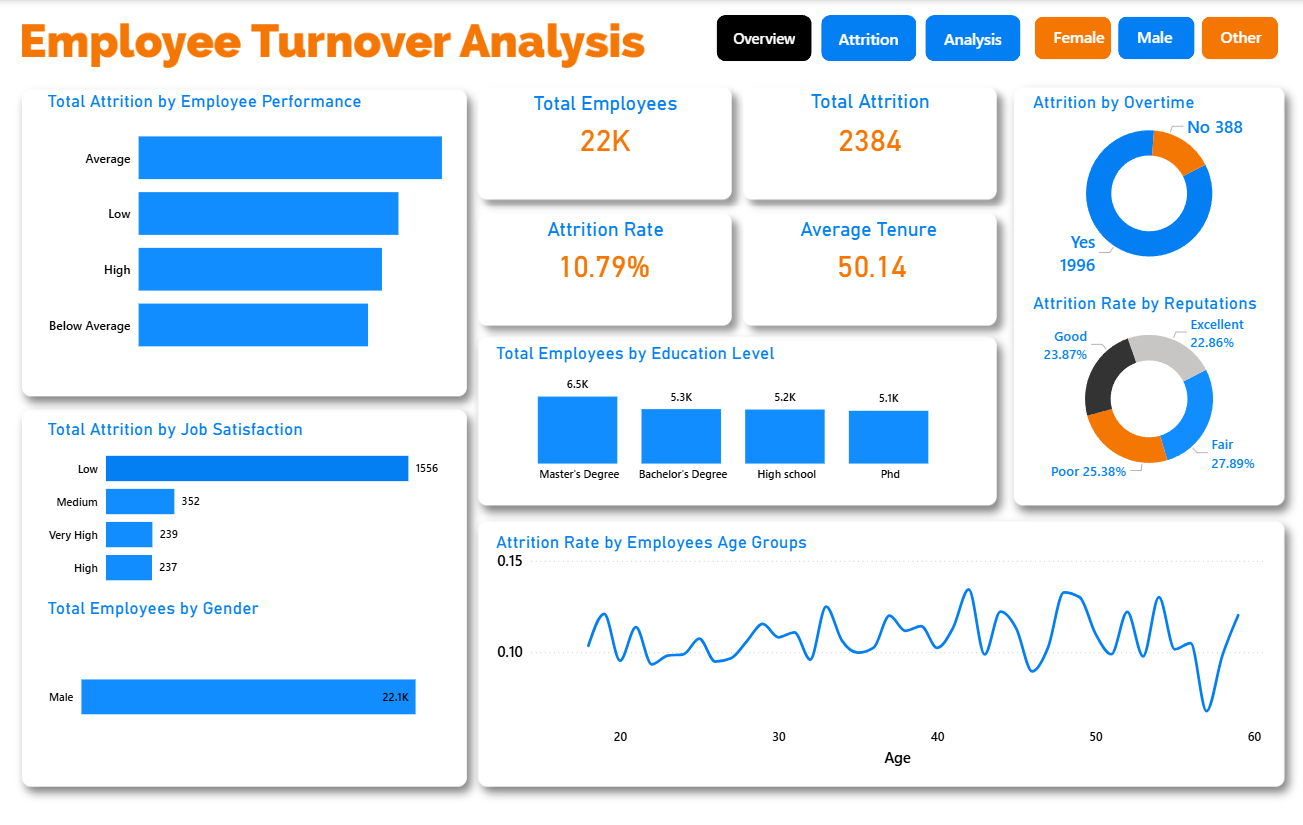

Layout of this report page (visuals, bound fields, positions):
{"tool":"powerbi","page":{"name":"Overview","canvas":[1440,910],"ordinal":0},"visuals":[{"type":"card","fields":{"Values":["public employee_attrition_dataset.total_employee"]},"box":[568.5,123.9,200,56.2],"z":0},{"type":"card","fields":{"Values":["public employee_attrition_dataset.total_attrition"]},"box":[861,123.9,198.3,56.2],"z":1000},{"type":"card","fields":{"Values":["public employee_attrition_dataset.attrition_rate"]},"box":[566.8,264.4,200,52.9],"z":2000},{"type":"card","fields":{"Values":["public employee_attrition_dataset.avg_tenure"]},"box":[862.6,264.4,198.3,52.9],"z":3000},{"type":"textbox","box":[550.3,95.8,238,41.3],"z":4000},{"type":"textbox","box":[851.1,94.2,219.8,41.3],"z":5000},{"type":"textbox","box":[556.9,234.7,224.8,41.3],"z":6000},{"type":"textbox","box":[839.5,234.7,239.6,41.3],"z":7000},{"type":"lineChart","fields":{"Category":["public employee_attrition_dataset.Age"],"Y":["public employee_attrition_dataset.attrition_rate"]},"box":[542.9,583.3,854.8,266],"z":8000},{"type":"donutChart","fields":{"Y":["public employee_attrition_dataset.total_attrition"],"Category":["public employee_attrition_dataset.Overtime"]},"box":[1135.1,111.3,265.2,204],"z":9000},{"type":"clusteredBarChart","fields":{"Y":["public employee_attrition_dataset.total_attrition"],"Category":["public employee_attrition_dataset.Job Satisfaction Label"]},"box":[50.1,474.8,445.1,185.5],"z":10000},{"type":"clusteredBarChart","fields":{"Category":["public employee_attrition_dataset.Performance Rating Label"],"Y":["public employee_attrition_dataset.total_attrition"]},"box":[50.1,113.1,445.1,300.5],"z":11000},{"type":"clusteredBarChart","fields":{"Category":["public employee_attrition_dataset.Gender"],"Y":["public employee_attrition_dataset.total_employee"]},"box":[50.1,664,445.1,200.3],"z":12000},{"type":"donutChart","fields":{"Y":["public employee_attrition_dataset.total_attrition"],"Category":["public employee_attrition_dataset.Reputation Label"]},"box":[1129.5,337.5,278.2,204],"z":13000},{"type":"textbox","box":[50.1,94.6,445.1,55.6],"z":14000},{"type":"textbox","box":[50.1,456.2,445.1,55.6],"z":15000},{"type":"textbox","box":[50.1,652.8,445.1,55.6],"z":16000},{"type":"textbox","box":[543.4,580.5,445.1,55.6],"z":17000},{"type":"textbox","box":[1135.1,96.4,213.3,55.6],"z":18000},{"type":"textbox","box":[1134.5,315.1,284.5,56.2],"z":19000},{"type":"textbox","box":[543.7,371.8,444.5,56.2],"z":20000},{"type":"clusteredColumnChart","fields":{"Y":["public employee_attrition_dataset.total_employee"],"Category":["public employee_attrition_dataset.Education Level"]},"box":[543.7,399.9,535.4,140.5],"z":21000},{"type":"advancedSlicerVisual","fields":{"Values":["public employee_attrition_dataset.Gender"]},"box":[1136.9,13,278.2,57.5],"z":22000},{"type":"pageNavigator","box":[791.9,16.7,337.5,51.9],"z":23000}]}

Visuals, with their boxes in screenshot pixels (x1, y1, x2, y2), scaled from the page's 1440x910 canvas onto the 1303x825 screenshot:
card - public employee_attrition_dataset.total_employee: locate(514, 112, 695, 163)
card - public employee_attrition_dataset.total_attrition: locate(779, 112, 959, 163)
card - public employee_attrition_dataset.attrition_rate: locate(513, 240, 694, 288)
card - public employee_attrition_dataset.avg_tenure: locate(781, 240, 960, 288)
textbox: locate(498, 87, 713, 124)
textbox: locate(770, 85, 969, 123)
textbox: locate(504, 213, 707, 250)
textbox: locate(760, 213, 976, 250)
lineChart - public employee_attrition_dataset.Age x public employee_attrition_dataset.attrition_rate: locate(491, 529, 1265, 770)
donutChart - public employee_attrition_dataset.total_attrition x public employee_attrition_dataset.Overtime: locate(1027, 101, 1267, 286)
clusteredBarChart - public employee_attrition_dataset.total_attrition x public employee_attrition_dataset.Job Satisfaction Label: locate(45, 430, 448, 599)
clusteredBarChart - public employee_attrition_dataset.Performance Rating Label x public employee_attrition_dataset.total_attrition: locate(45, 103, 448, 375)
clusteredBarChart - public employee_attrition_dataset.Gender x public employee_attrition_dataset.total_employee: locate(45, 602, 448, 784)
donutChart - public employee_attrition_dataset.total_attrition x public employee_attrition_dataset.Reputation Label: locate(1022, 306, 1274, 491)
textbox: locate(45, 86, 448, 136)
textbox: locate(45, 414, 448, 464)
textbox: locate(45, 592, 448, 642)
textbox: locate(492, 526, 894, 577)
textbox: locate(1027, 87, 1220, 138)
textbox: locate(1027, 286, 1284, 337)
textbox: locate(492, 337, 894, 388)
clusteredColumnChart - public employee_attrition_dataset.total_employee x public employee_attrition_dataset.Education Level: locate(492, 363, 976, 490)
advancedSlicerVisual - public employee_attrition_dataset.Gender: locate(1029, 12, 1280, 64)
pageNavigator: locate(717, 15, 1022, 62)
